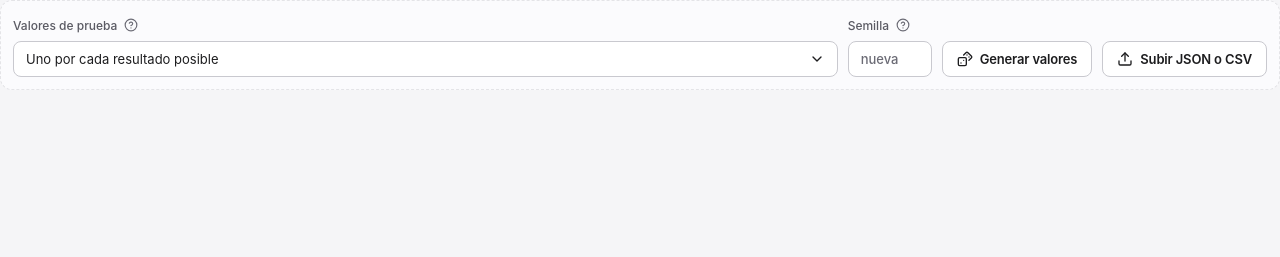
Scenario: SimulatorSampleBar › avisa cuando el generador de datos realistas no respondió
The image size is (1280, 257).
Click the dropdown named "Valores de prueba": [122, 59] box x1=13 y1=41 x2=838 y2=77
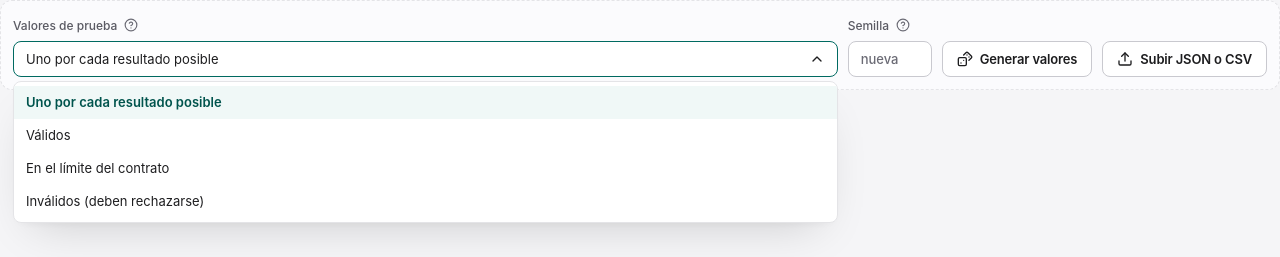
Click the option "Válidos": [48, 135] box x1=26 y1=127 x2=70 y2=143
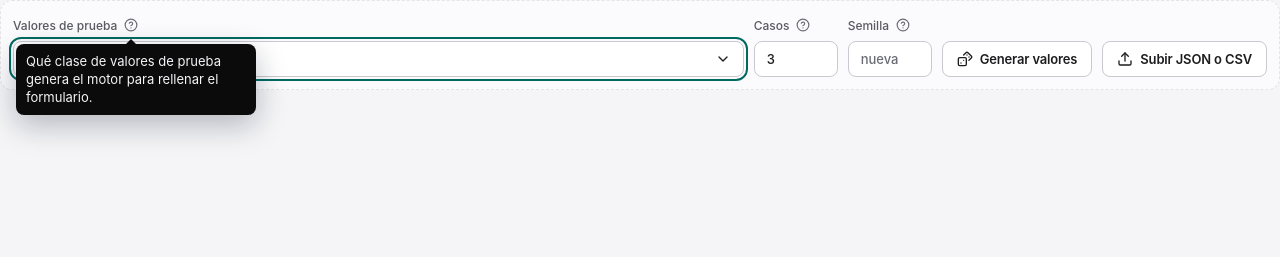
Click the button "Generar valores": [1017, 59] box x1=942 y1=41 x2=1092 y2=77
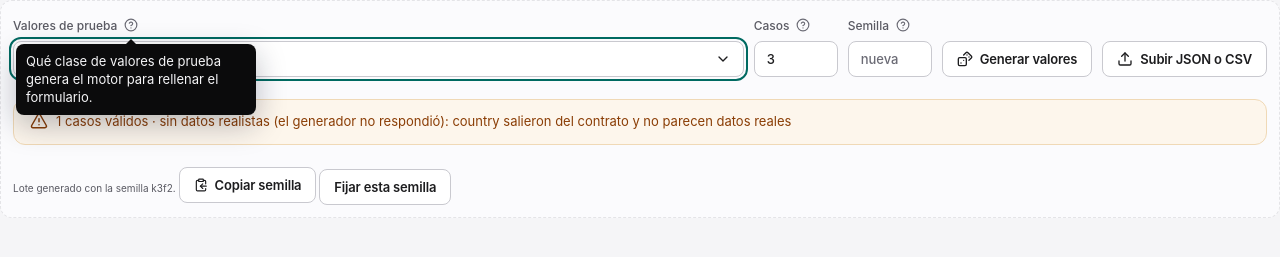
Now the text "sin datos realistas (el generador no respondió)" is shown, box x1=56 y1=113 x2=792 y2=129
